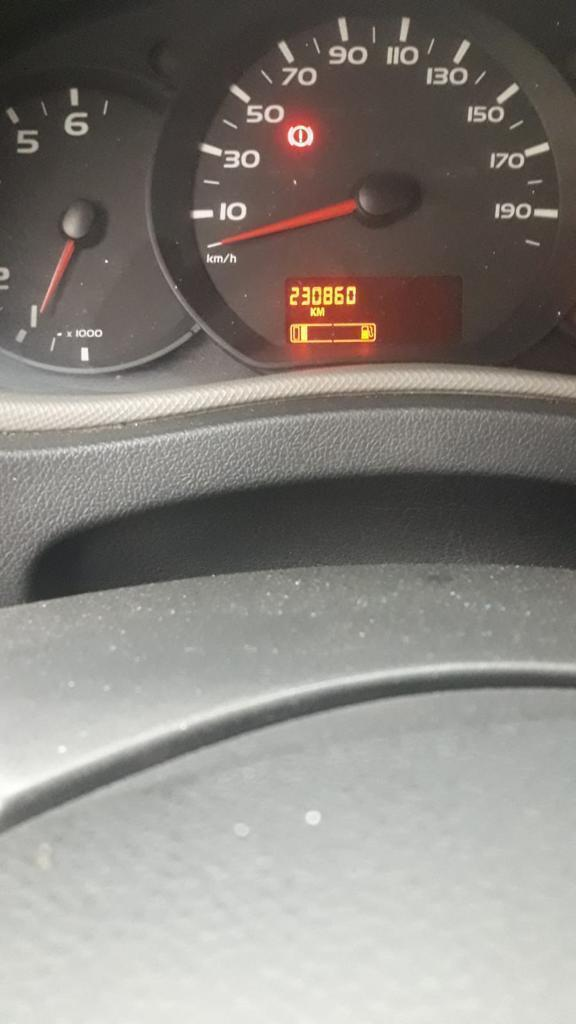0: (311, 285, 322, 305), (346, 285, 357, 305)
2: (289, 286, 299, 305)
3: (301, 285, 310, 305)
6: (334, 285, 344, 305)
8: (323, 285, 333, 305)
X: (316, 306, 325, 317), (309, 306, 316, 317)
odometer: (280, 273, 468, 350)
